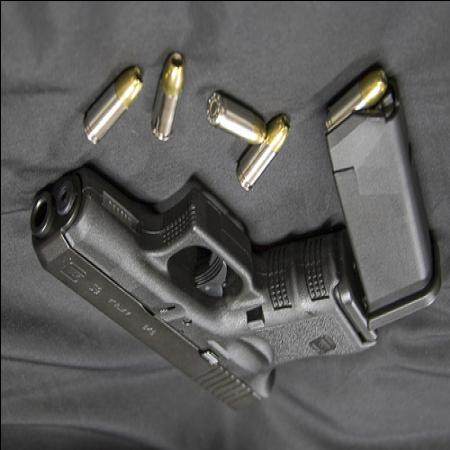Pistol: (20, 168, 378, 410)
